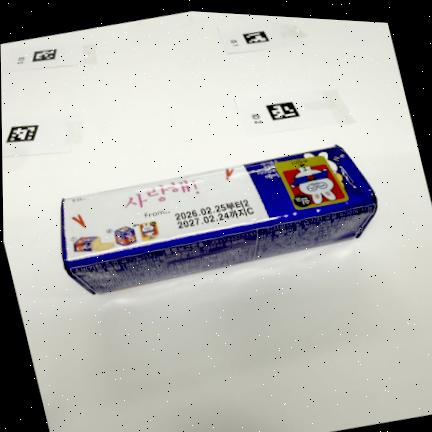cracker_ace: (60, 145, 377, 295)
